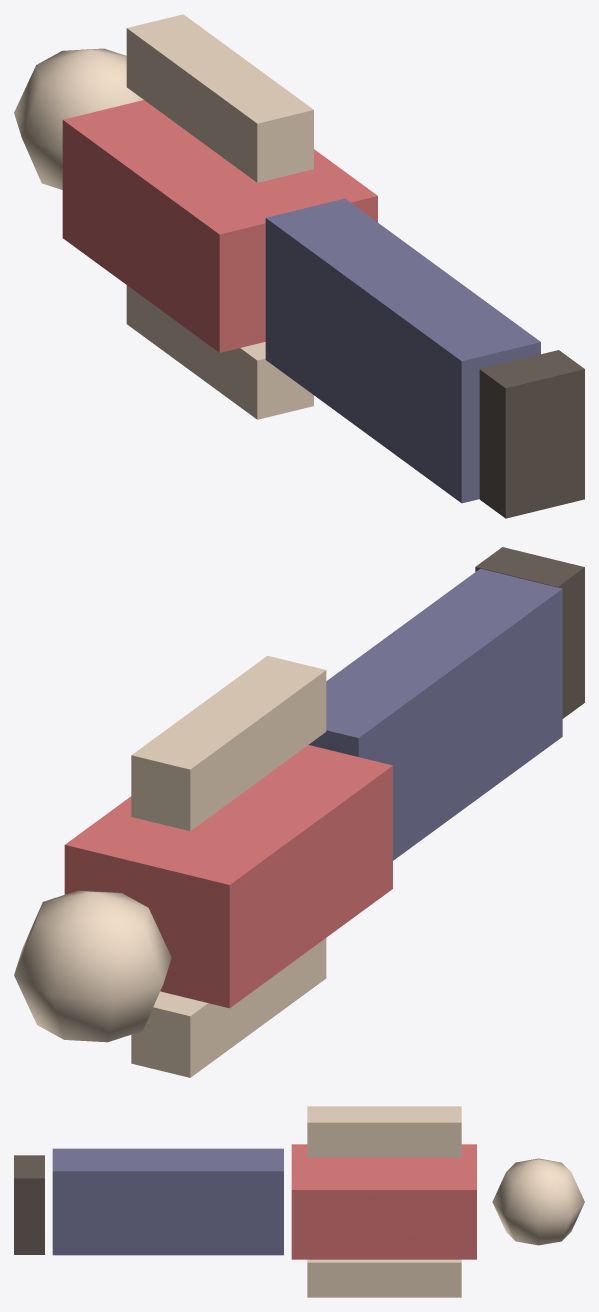
Rendered from Pedestrian_Red.fbx.
3 views of the same model, one above another, from view 1: azimuth 30°, elevation 25°; view 2: azimuth 150°, elevation 25°; view 3: azimuth 270°, elevation 25° (orthographic). The views are drawn at different scales.
Parts seen in each view (by area): view 1: Pedestrian_2_Torso, Pedestrian_2_LegL, Pedestrian_2_ArmL, Pedestrian_2_LegR, Pedestrian_2_ShoeL, Pedestrian_2_Head, Pedestrian_2_ArmR, Pedestrian_2_ShoeR; view 2: Pedestrian_2_Torso, Pedestrian_2_LegL, Pedestrian_2_ArmL, Pedestrian_2_Head, Pedestrian_2_LegR, Pedestrian_2_ArmR, Pedestrian_2_ShoeL, Pedestrian_2_ShoeR; view 3: Pedestrian_2_Torso, Pedestrian_2_LegL, Pedestrian_2_LegR, Pedestrian_2_ArmL, Pedestrian_2_Head, Pedestrian_2_ArmR, Pedestrian_2_ShoeL, Pedestrian_2_ShoeR.
Boxes of the visible parts, x1,y1,x2,y2 form: Pedestrian_2_Torso: [62, 100, 377, 352]; Pedestrian_2_LegL: [265, 198, 540, 443]; Pedestrian_2_ArmL: [126, 14, 313, 182]; Pedestrian_2_LegR: [265, 301, 479, 503]; Pedestrian_2_ShoeL: [479, 350, 584, 459]; Pedestrian_2_Head: [14, 48, 143, 189]; Pedestrian_2_ArmR: [126, 285, 313, 419]; Pedestrian_2_ShoeR: [479, 429, 584, 518]; Pedestrian_2_Torso: [64, 745, 392, 1008]; Pedestrian_2_LegL: [309, 568, 562, 796]; Pedestrian_2_ArmL: [131, 655, 326, 831]; Pedestrian_2_Head: [14, 890, 171, 1042]; Pedestrian_2_LegR: [393, 651, 562, 860]; Pedestrian_2_ArmR: [131, 938, 326, 1077]; Pedestrian_2_ShoeL: [475, 547, 584, 656]; Pedestrian_2_ShoeR: [562, 629, 584, 718]; Pedestrian_2_Torso: [291, 1144, 476, 1259]; Pedestrian_2_LegL: [52, 1148, 283, 1220]; Pedestrian_2_LegR: [52, 1206, 283, 1255]; Pedestrian_2_ArmL: [307, 1106, 461, 1157]; Pedestrian_2_Head: [492, 1158, 584, 1245]; Pedestrian_2_ArmR: [307, 1259, 461, 1297]; Pedestrian_2_ShoeL: [14, 1155, 44, 1220]; Pedestrian_2_ShoeR: [14, 1213, 44, 1254].
Size of the model in its own units: 0.14 by 0.25 by 0.74.
